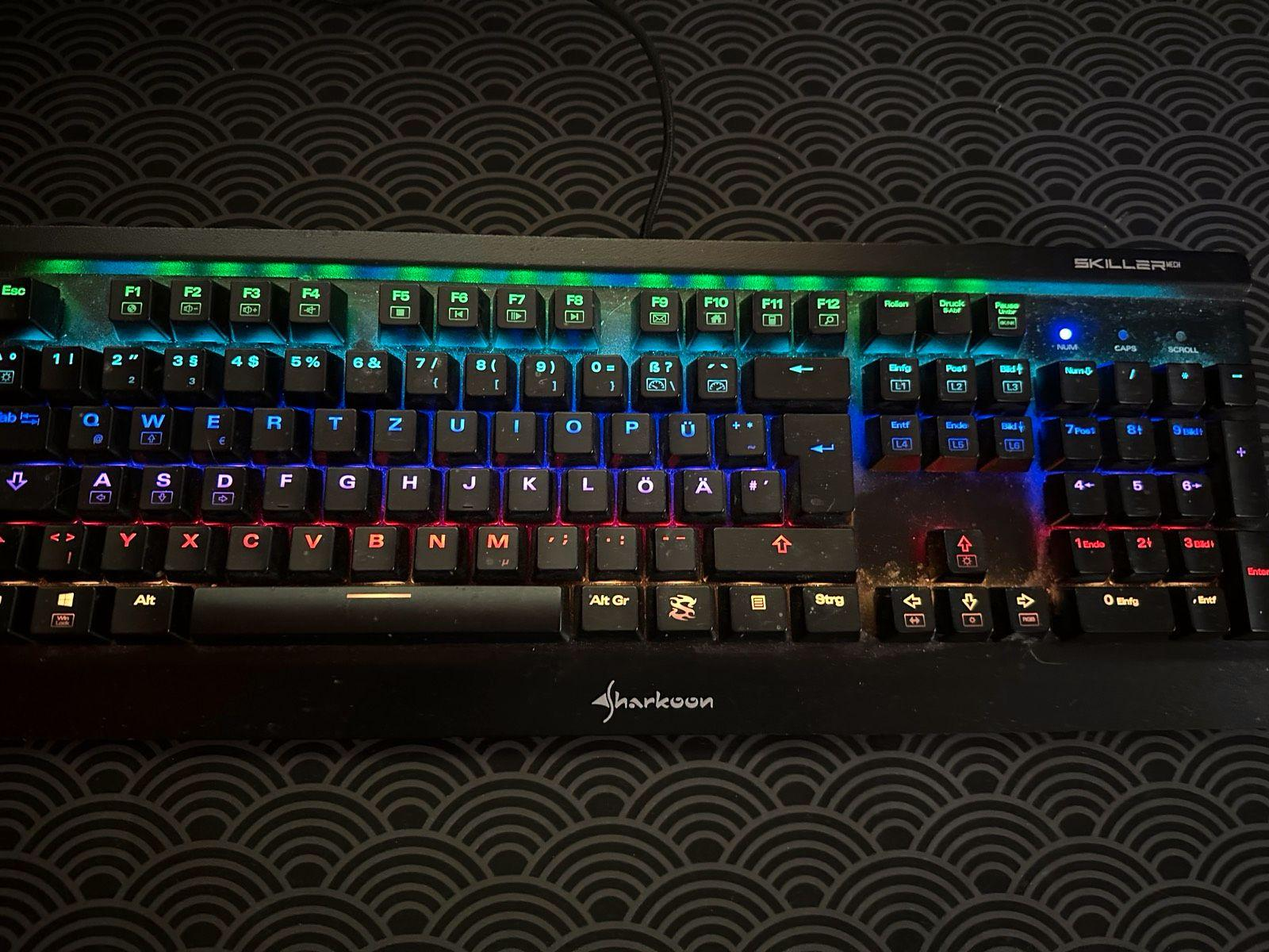0: (577, 350, 624, 398)
1: (37, 342, 82, 388)
2: (98, 343, 143, 390)
3: (160, 344, 206, 393)
4: (221, 344, 266, 392)
5: (281, 344, 328, 391)
6: (342, 345, 389, 393)
7: (402, 347, 447, 394)
8: (461, 348, 507, 397)
9: (519, 350, 566, 397)
a: (74, 462, 121, 510)
accent: (692, 351, 737, 401)
ae: (678, 465, 723, 511)
alt-left: (105, 581, 174, 631)
altgr-right: (576, 578, 638, 631)
b: (347, 520, 397, 569)
c: (222, 520, 272, 568)
caret: (1, 341, 25, 389)
comma: (533, 520, 577, 568)
d: (197, 462, 245, 510)
del: (750, 352, 849, 397)
e: (186, 404, 234, 451)
enter: (778, 408, 853, 516)
f: (259, 462, 306, 509)
g: (320, 462, 368, 509)
h: (383, 463, 430, 509)
hash: (736, 466, 780, 512)
i: (491, 407, 535, 451)
j: (444, 463, 489, 510)
k: (504, 463, 549, 510)
keyboard: (2, 222, 1268, 736)
l: (562, 464, 607, 510)
less: (35, 519, 84, 569)
m: (471, 520, 519, 570)
minus: (650, 522, 695, 569)
n: (411, 520, 458, 570)
o: (547, 407, 594, 452)
oe: (620, 465, 665, 512)
p: (607, 409, 651, 454)
plus: (720, 409, 765, 456)
point: (592, 521, 636, 568)
q: (63, 401, 112, 450)
r: (247, 404, 294, 449)
s: (136, 462, 182, 509)
shift-lock: (2, 462, 61, 514)
shift-right: (709, 523, 857, 570)
space: (183, 580, 565, 636)
ss: (634, 351, 681, 401)
strg-right: (797, 581, 861, 631)
t: (309, 404, 355, 450)
tab: (1, 401, 49, 451)
u: (431, 405, 478, 453)
ue: (664, 408, 708, 455)
v: (286, 520, 334, 568)
w: (125, 403, 171, 451)
x: (162, 520, 209, 569)
y: (99, 520, 145, 568)
z: (370, 405, 416, 451)
